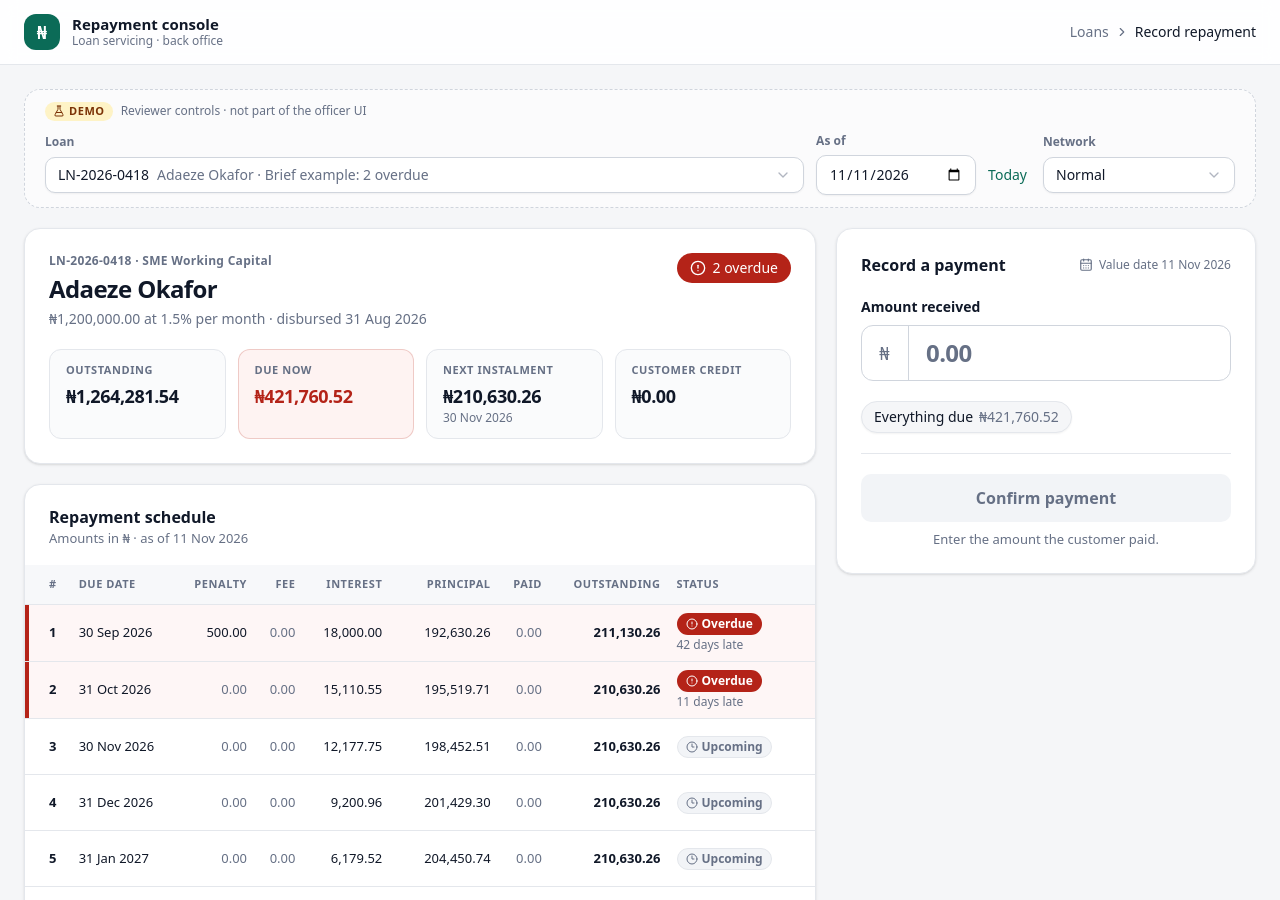
Test case: Confirm button › is disabled until a valid, non-zero amount is entered, and says why
Check: the heading "Adaeze Okafor" is shown, box [49,272,217,305]
Check: the button "Confirm payment" is disabled, box [861,474,1231,522]
Type "0" into the field labelled "Amount received" at (1046, 353), box [861,325,1231,381]
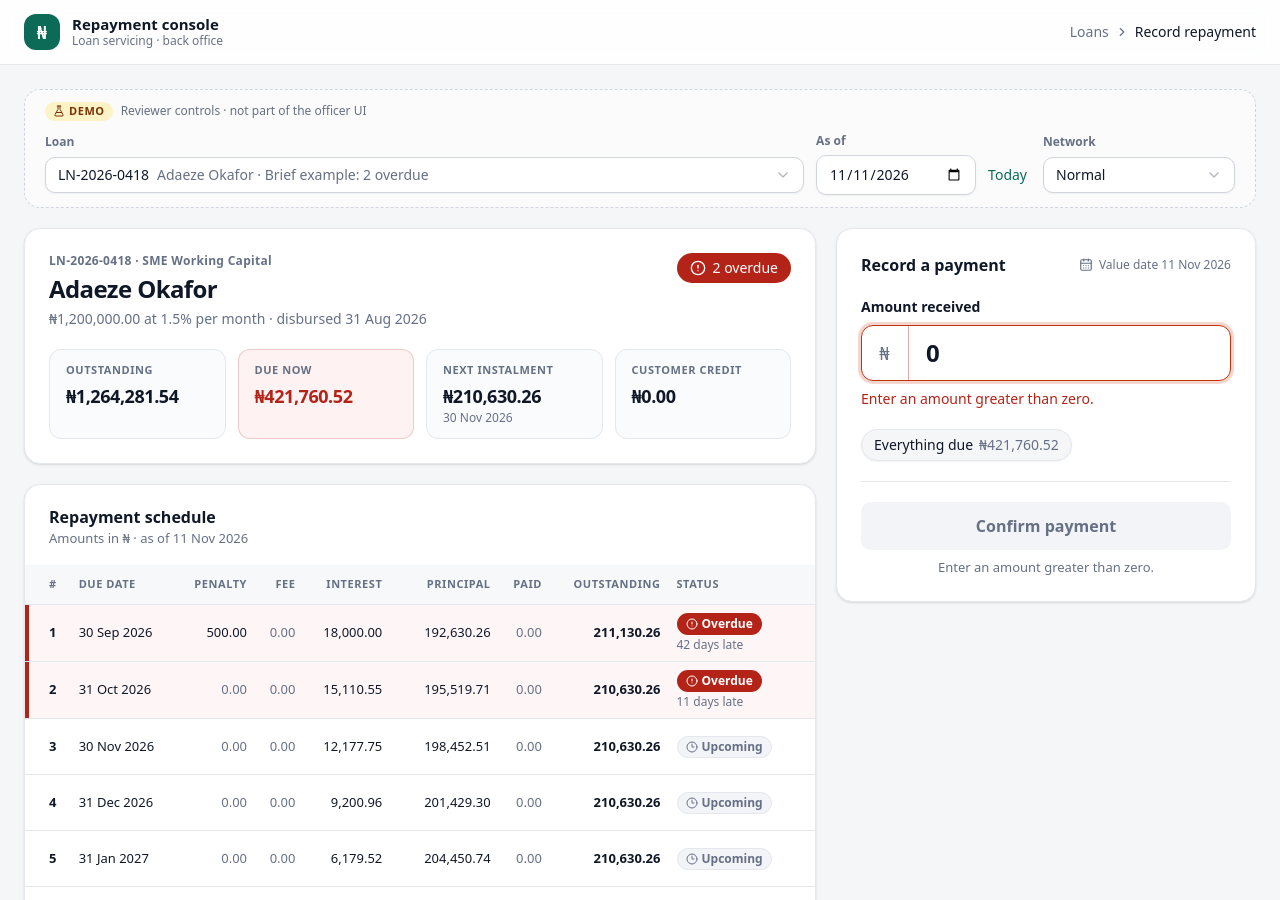
Check: the button "Confirm payment" is disabled, box [861,502,1231,550]
Check: the message reads "Enter an amount greater than zero.", box [861,389,1094,408]
Replace the text in the field labelled "Amount received" with "12.345" at (1046, 353), box [861,325,1231,381]
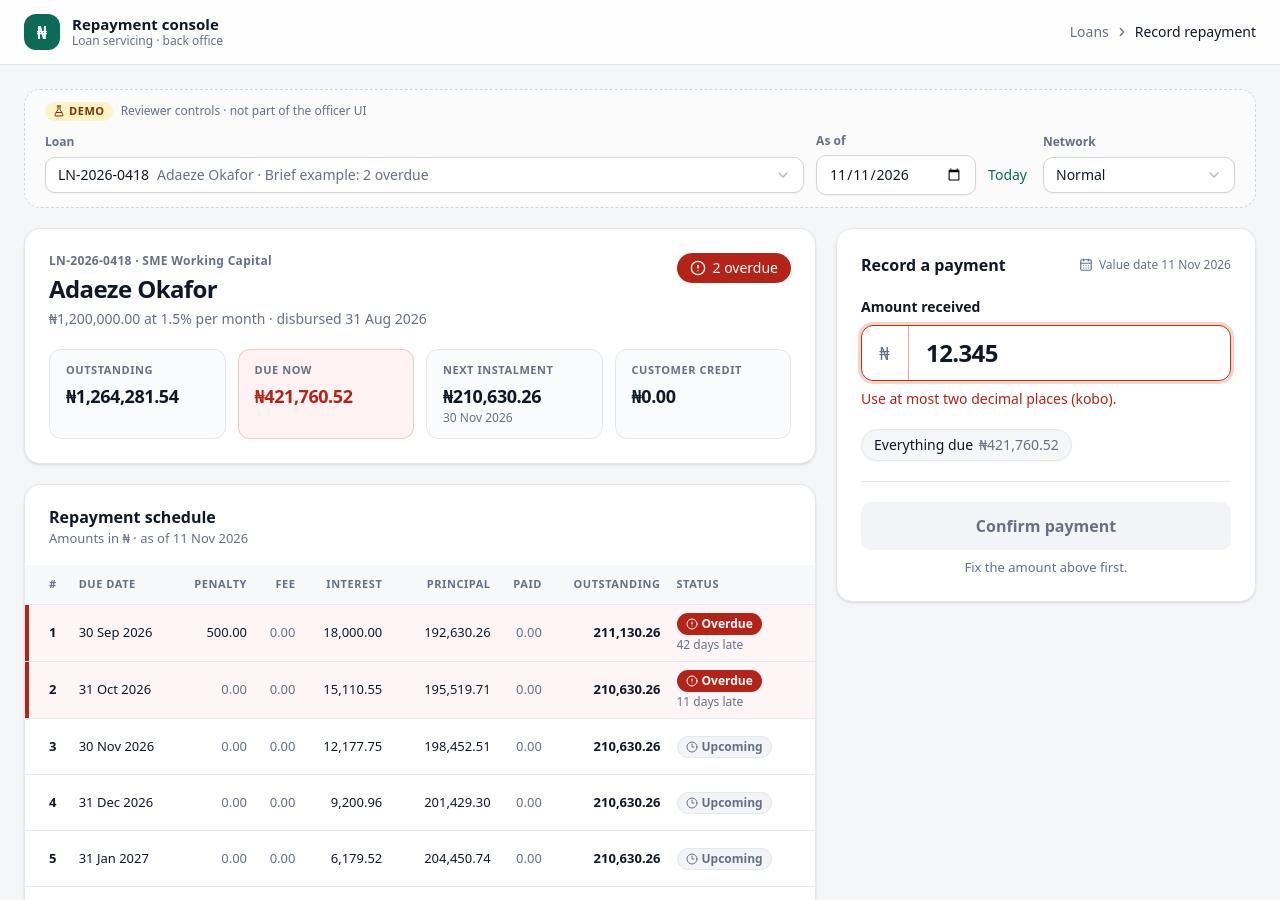
Check: the button "Confirm payment" is disabled, box [861,502,1231,550]
Replace the text in the field labelled "Amount received" with "100" at (1046, 353), box [861,325,1231,381]
(page scrolled)
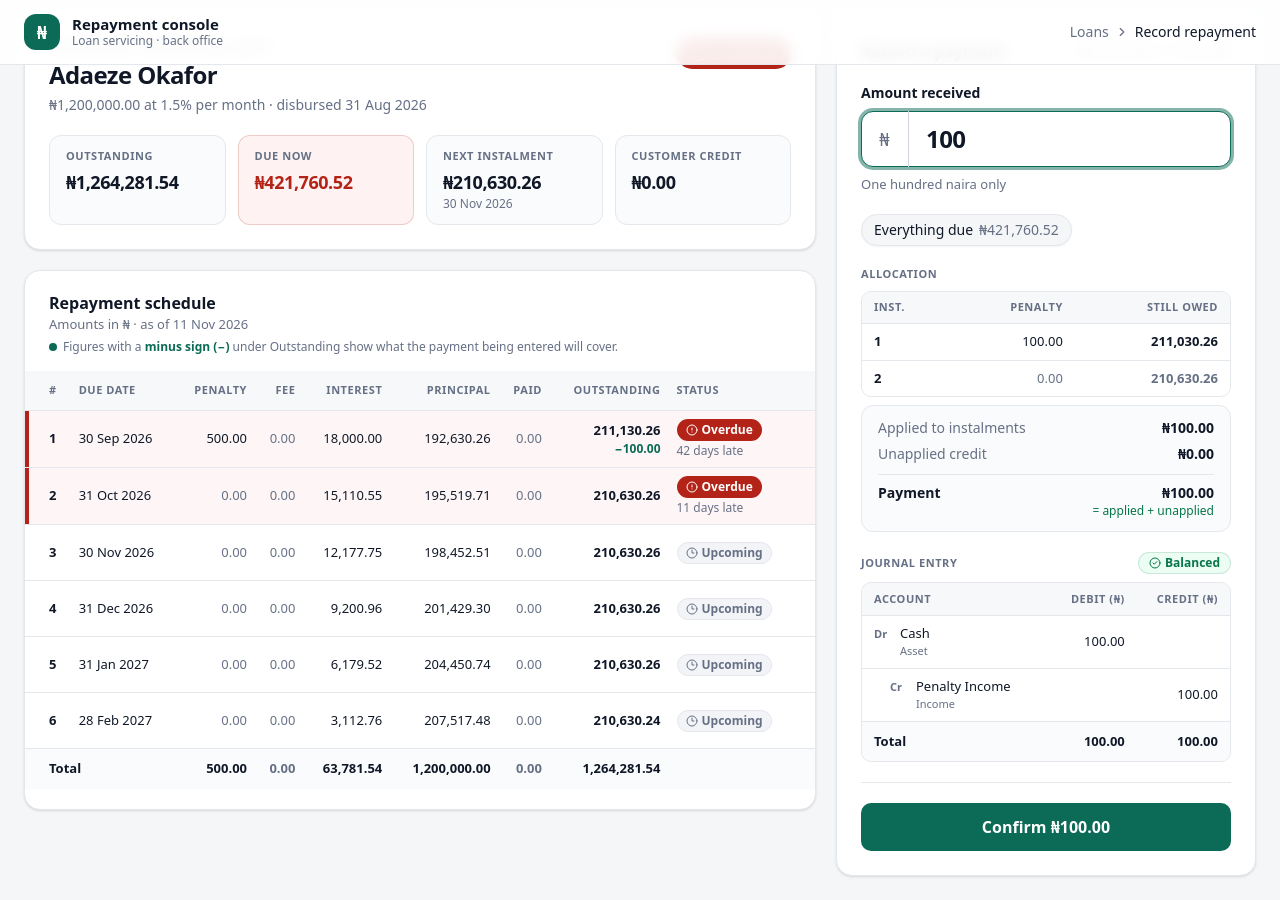
Check: the button "Confirm ₦100.00" is enabled, box [861,803,1231,851]
Check: the button "Confirm ₦100.00" is shown, box [861,803,1231,851]
